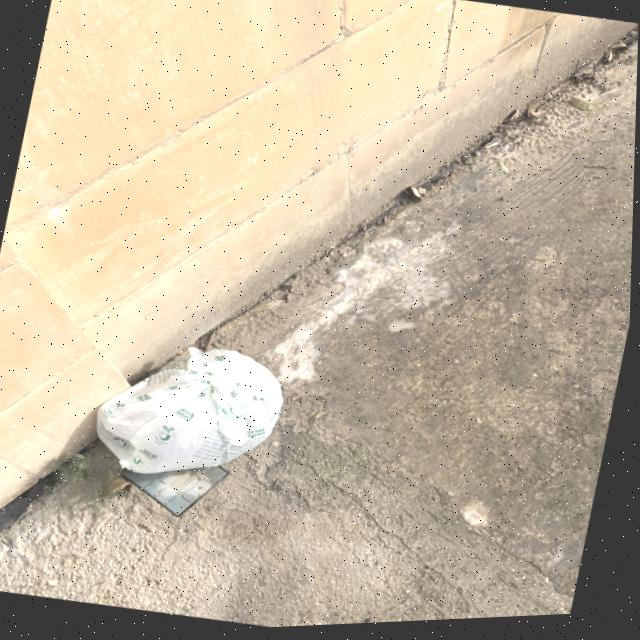Organic Waste -White Bag-: (82, 321, 298, 511)
